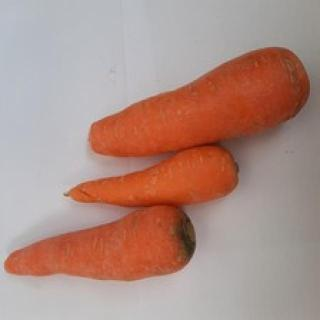carrot: (74, 41, 312, 157), (5, 200, 198, 292), (61, 137, 243, 205)
